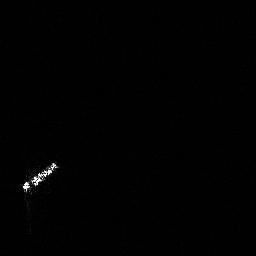ship: (17, 156, 64, 197)
